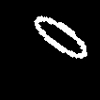chain: (34, 16, 86, 57)
